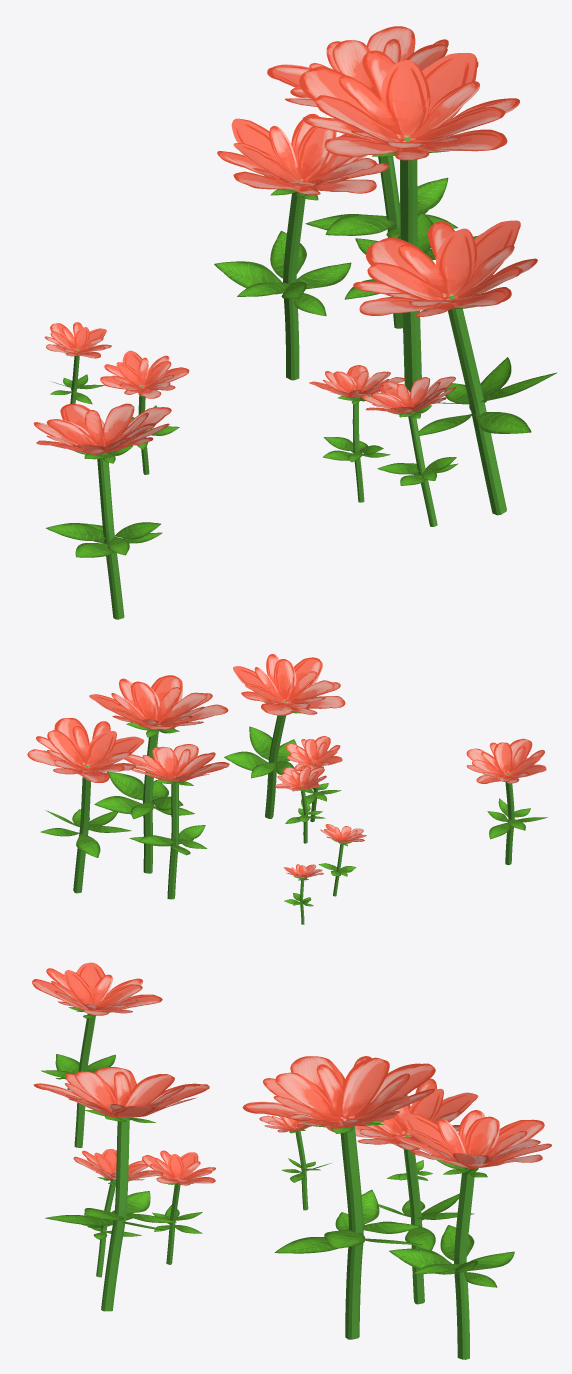
Rendered from Flower2.fbx.
3 renders of one model, top to bottom at view 1: azimuth 30°, elevation 25°; view 2: azimuth 150°, elevation 25°; view 3: azimuth 270°, elevation 25°, orthographic. The views are drawn at different scales.
Visible parts, largest first — view 1: Flower2Group; view 2: Flower2Group; view 3: Flower2Group.
Boxes of the visible parts, x1=… form: Flower2Group: x1=33, y1=26, x2=556, y2=619; Flower2Group: x1=27, y1=654, x2=547, y2=924; Flower2Group: x1=32, y1=962, x2=551, y2=1359.
Size of the model in its own units: 784 by 341 by 660.
